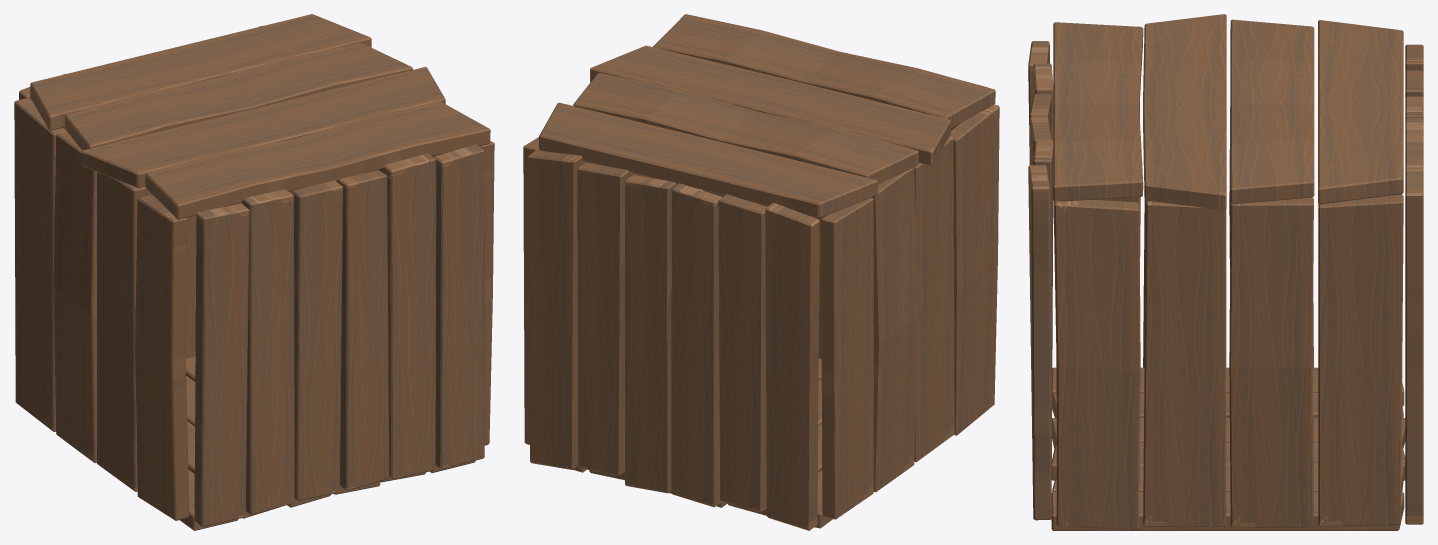
File: Caixa_Madeira.fbx
3 views of the same model, side by side, from view 1: azimuth 30°, elevation 25°; view 2: azimuth 150°, elevation 25°; view 3: azimuth 270°, elevation 25° (orthographic). The views are drawn at different scales.
Parts seen in each view (by area): view 1: Caixa_Madeira; view 2: Caixa_Madeira; view 3: Caixa_Madeira.
Boxes of the visible parts, bbox=[...] form: Caixa_Madeira: bbox=[14, 14, 494, 530]; Caixa_Madeira: bbox=[523, 14, 999, 530]; Caixa_Madeira: bbox=[1028, 14, 1423, 530].
Size of the model in its own units: 105 by 96.17 by 96.65.
